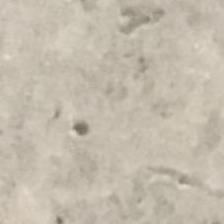Crack: (63, 118, 121, 145)
Non_Crack: (16, 41, 224, 112)
